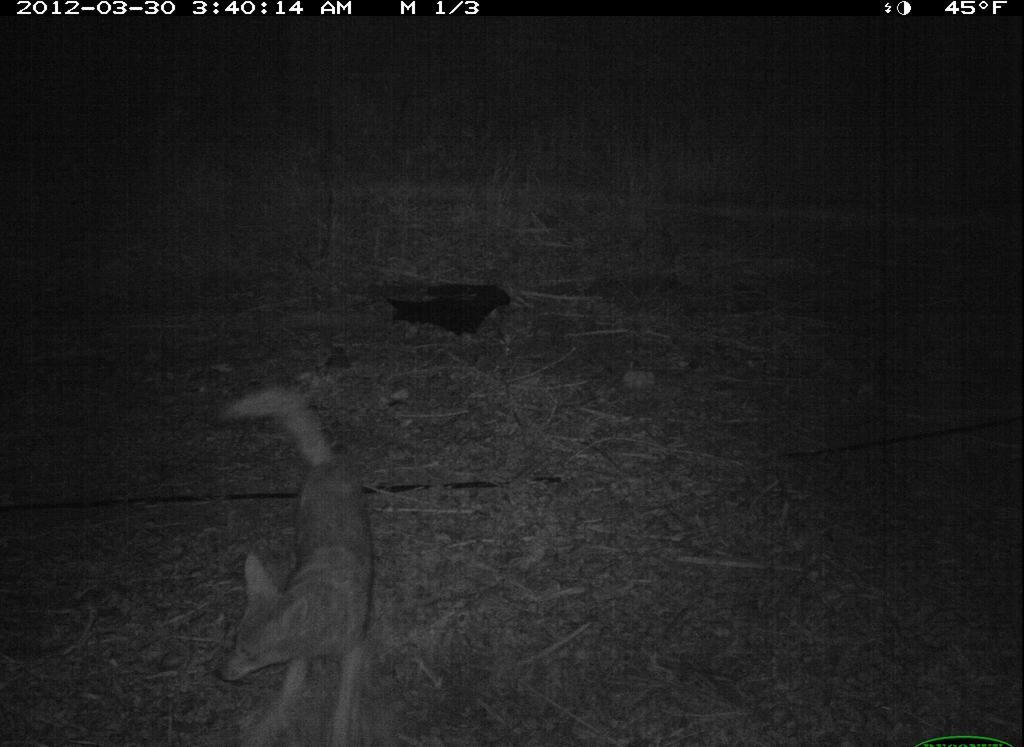coyote: (213, 365, 381, 747)
